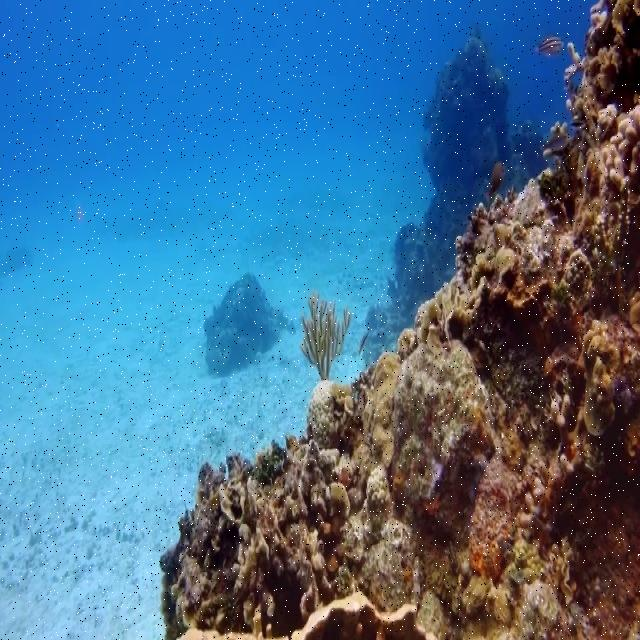fish: (483, 161, 504, 202), (536, 36, 564, 56), (543, 133, 568, 154), (357, 329, 369, 356), (570, 120, 585, 128)
reefs: (159, 0, 639, 639), (298, 292, 351, 449)
